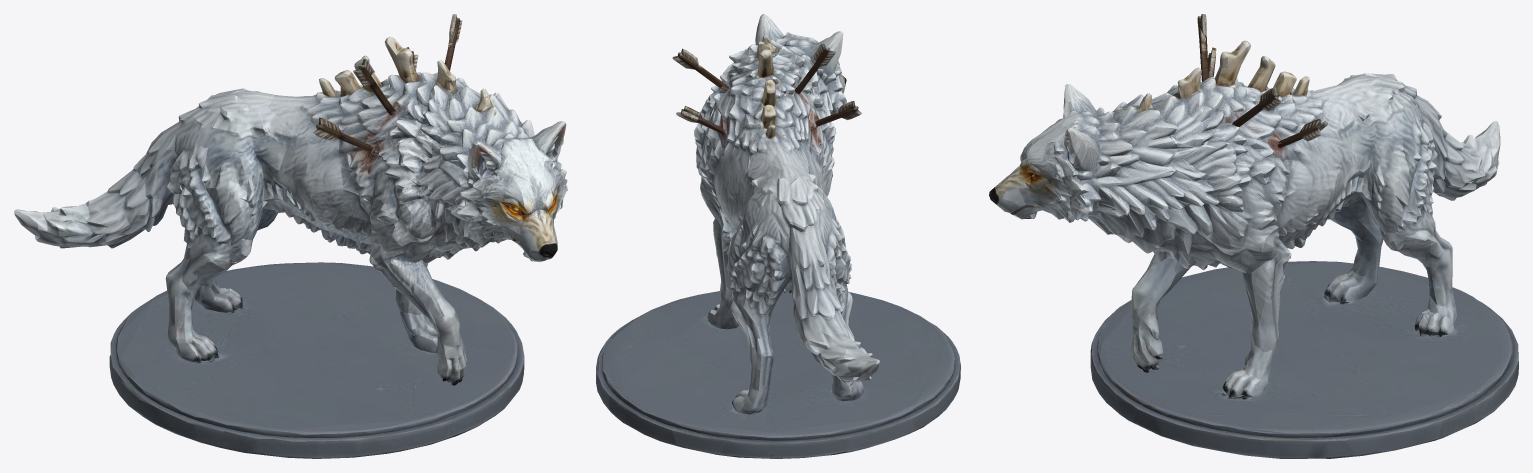
Rendered from fangrir.glb.
3 views of the same model, side by side, from view 1: azimuth 30°, elevation 25°; view 2: azimuth 150°, elevation 25°; view 3: azimuth 270°, elevation 25° (orthographic). The views are drawn at different scales.
Parts seen in each view (by area): view 1: output_unwrapped; view 2: output_unwrapped; view 3: output_unwrapped.
Boxes of the visible parts, x1,y1,x2,y2 form: output_unwrapped: (14,14,567,458); output_unwrapped: (596,14,960,458); output_unwrapped: (989,14,1518,458).
Bounding box in the file's own units: 1.64 × 1.41 × 1.9.
1 material, 1 textured.
